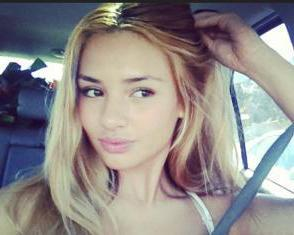face: (80, 31, 177, 170)
